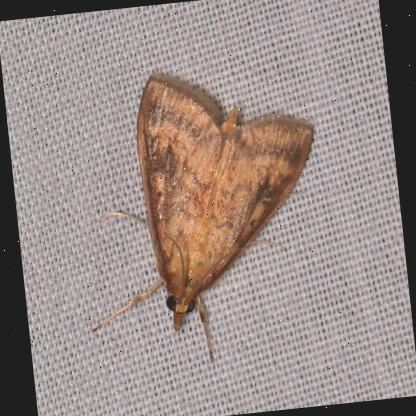Asian Corn Borer Moth: (60, 51, 342, 381)
